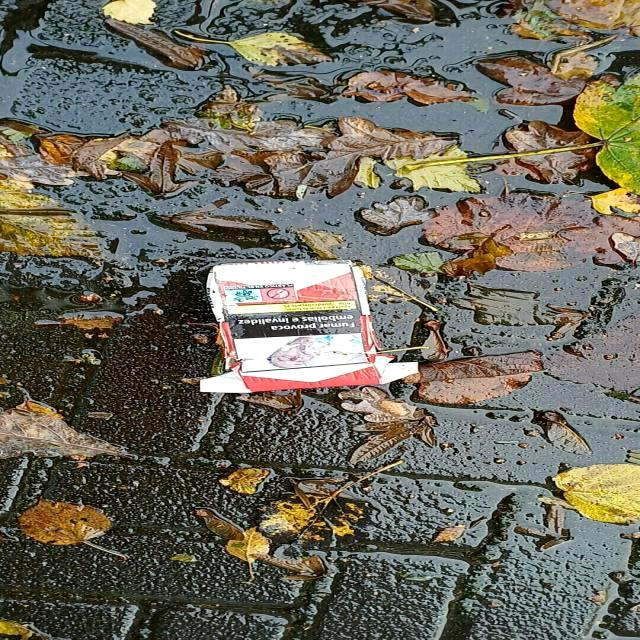Paper: (190, 256, 424, 396)
